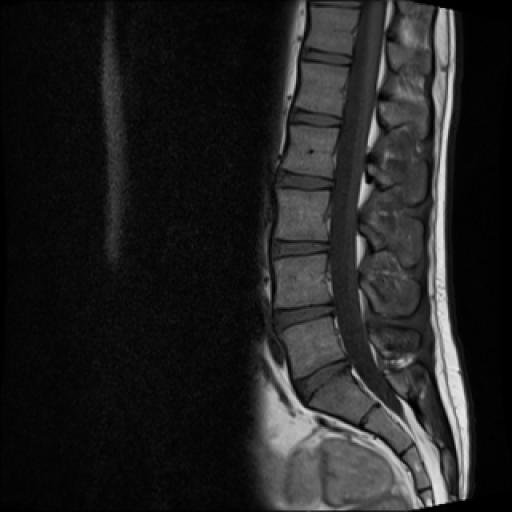L1: (295, 61, 349, 118)
L2: (282, 125, 339, 178)
L3: (274, 189, 330, 240)
L4: (273, 253, 332, 308)
L5: (280, 317, 344, 378)
S1: (308, 372, 376, 426)
